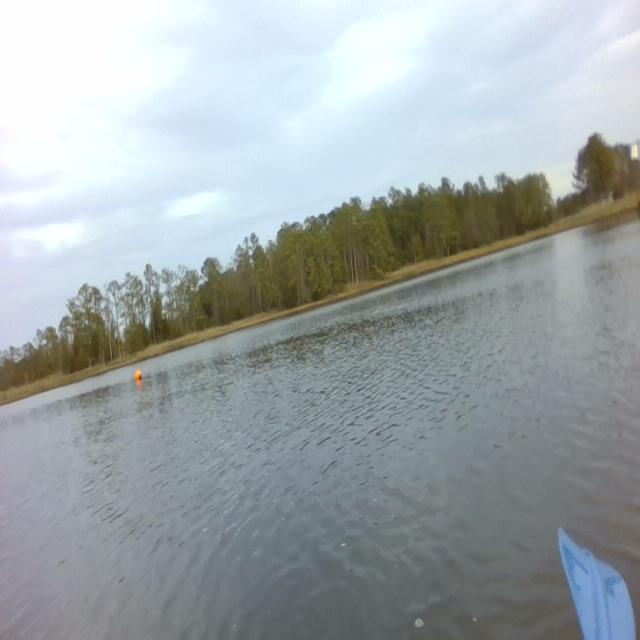Buoy: (134, 366, 144, 382)
